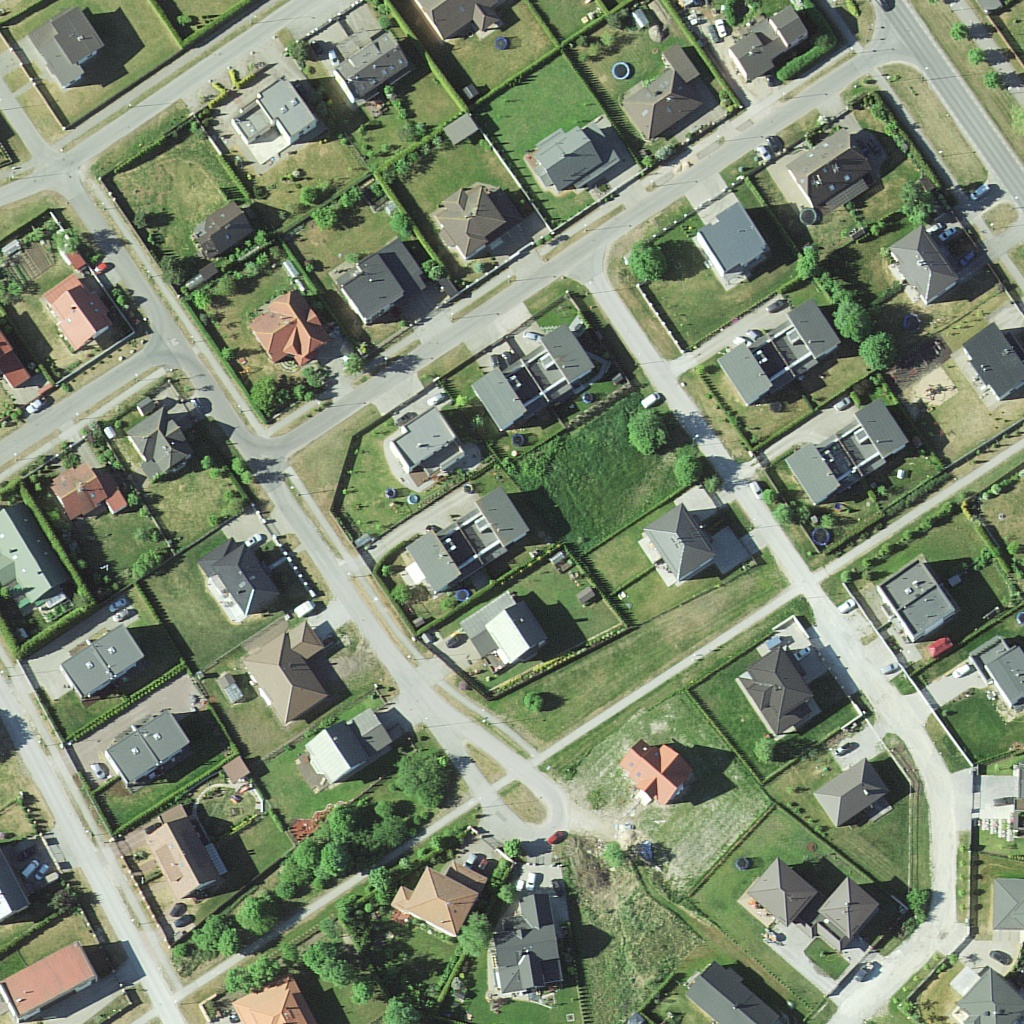building: (784, 403, 914, 516), (717, 293, 842, 406), (405, 485, 528, 591), (474, 325, 589, 431), (238, 618, 338, 726), (1, 938, 104, 1018), (107, 705, 195, 793), (738, 649, 823, 737), (464, 591, 549, 676), (42, 258, 118, 353), (228, 77, 312, 162), (625, 55, 712, 137), (1, 505, 65, 615), (314, 702, 396, 783), (789, 125, 870, 204), (35, 5, 115, 84), (392, 872, 477, 946), (808, 758, 896, 829), (64, 623, 151, 692), (892, 558, 960, 645), (348, 243, 420, 325), (888, 217, 955, 305), (730, 13, 814, 83), (641, 502, 712, 583), (688, 970, 789, 1024), (156, 813, 217, 902), (336, 29, 407, 103), (208, 542, 272, 623), (704, 204, 771, 279), (534, 128, 614, 189), (621, 738, 692, 806), (963, 319, 1024, 396), (501, 932, 575, 995), (401, 417, 471, 483), (135, 408, 197, 479), (438, 190, 501, 257), (216, 984, 317, 1024), (751, 862, 814, 926), (258, 295, 324, 356), (52, 466, 130, 512), (816, 882, 881, 935), (952, 973, 1024, 1019), (982, 639, 1022, 718), (201, 198, 252, 251), (985, 870, 1024, 929)
